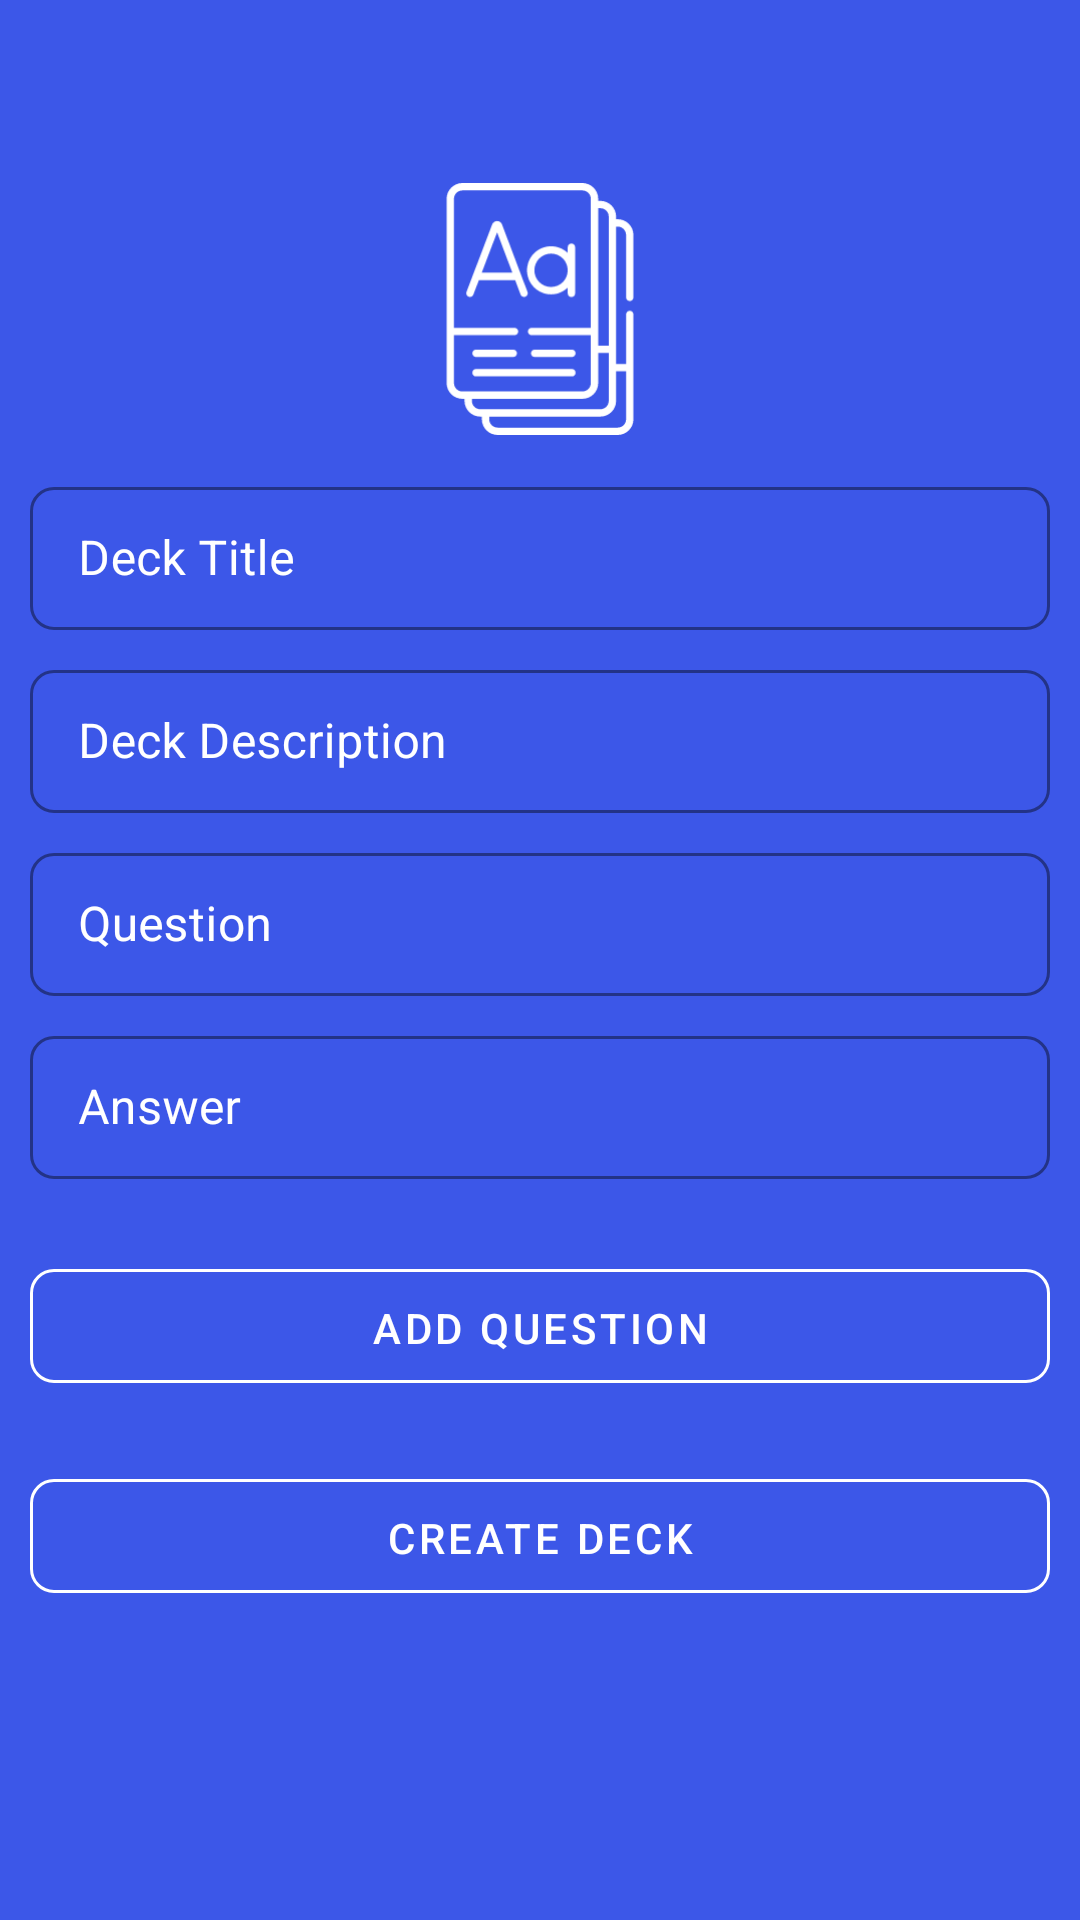

Icon click points for this 1080 x 1920 phone screenshot, format (x=x, y=y):
flashcards: (x=540, y=309)
